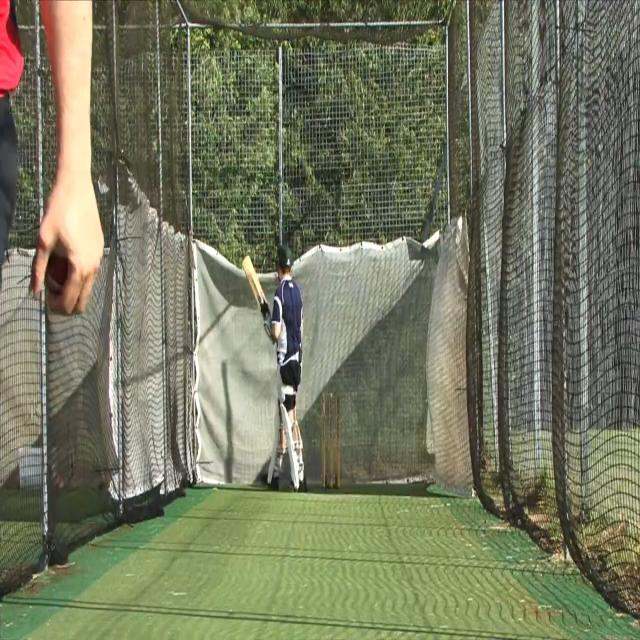batsman: (242, 240, 309, 494)
